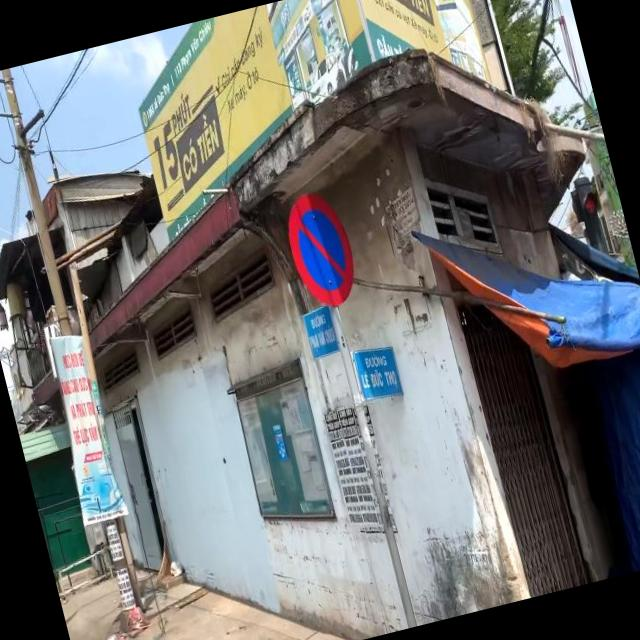P-131a: (278, 186, 364, 313)
